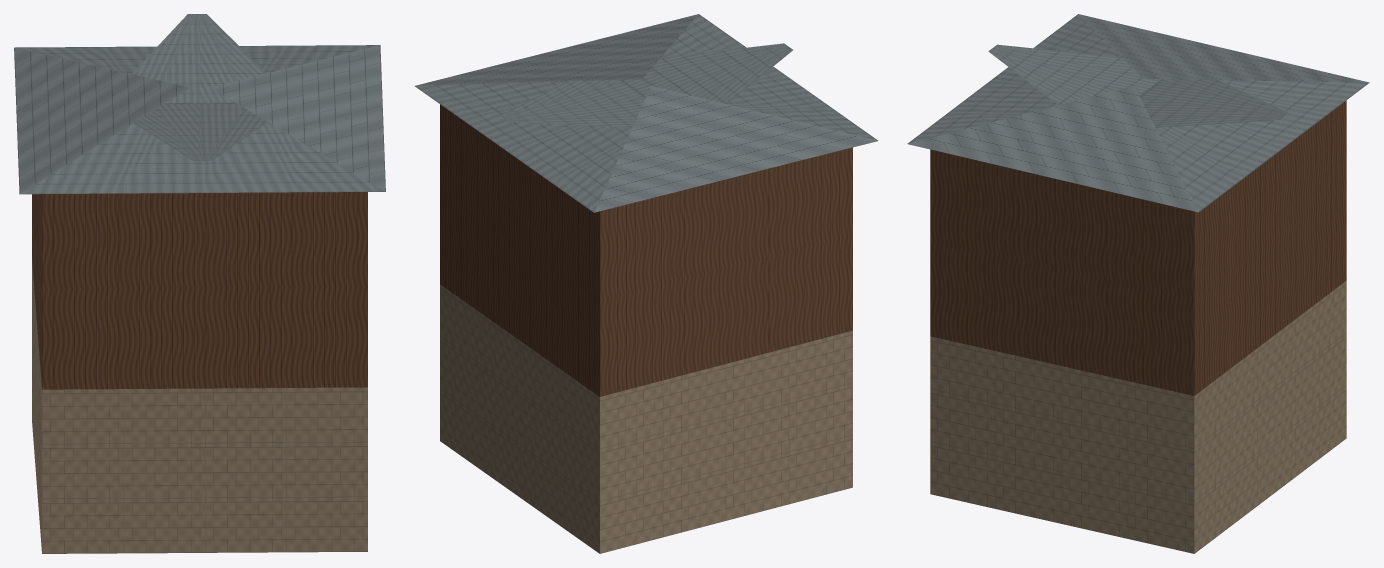
File: bld_c10_28_398.gltf
3 views of the same model, side by side, from view 1: azimuth 30°, elevation 25°; view 2: azimuth 150°, elevation 25°; view 3: azimuth 270°, elevation 25° (orthographic). The views are drawn at different scales.
Parts seen in each view (by area): view 1: bld_c10_28_398; view 2: bld_c10_28_398; view 3: bld_c10_28_398.
Boxes of the visible parts, x1,y1,x2,y2 form: bld_c10_28_398: [14, 14, 385, 553]; bld_c10_28_398: [414, 14, 878, 553]; bld_c10_28_398: [907, 14, 1369, 553].
Size of the model in its own units: 13.76 by 12.4 by 13.55.
3 materials, 3 textured.
